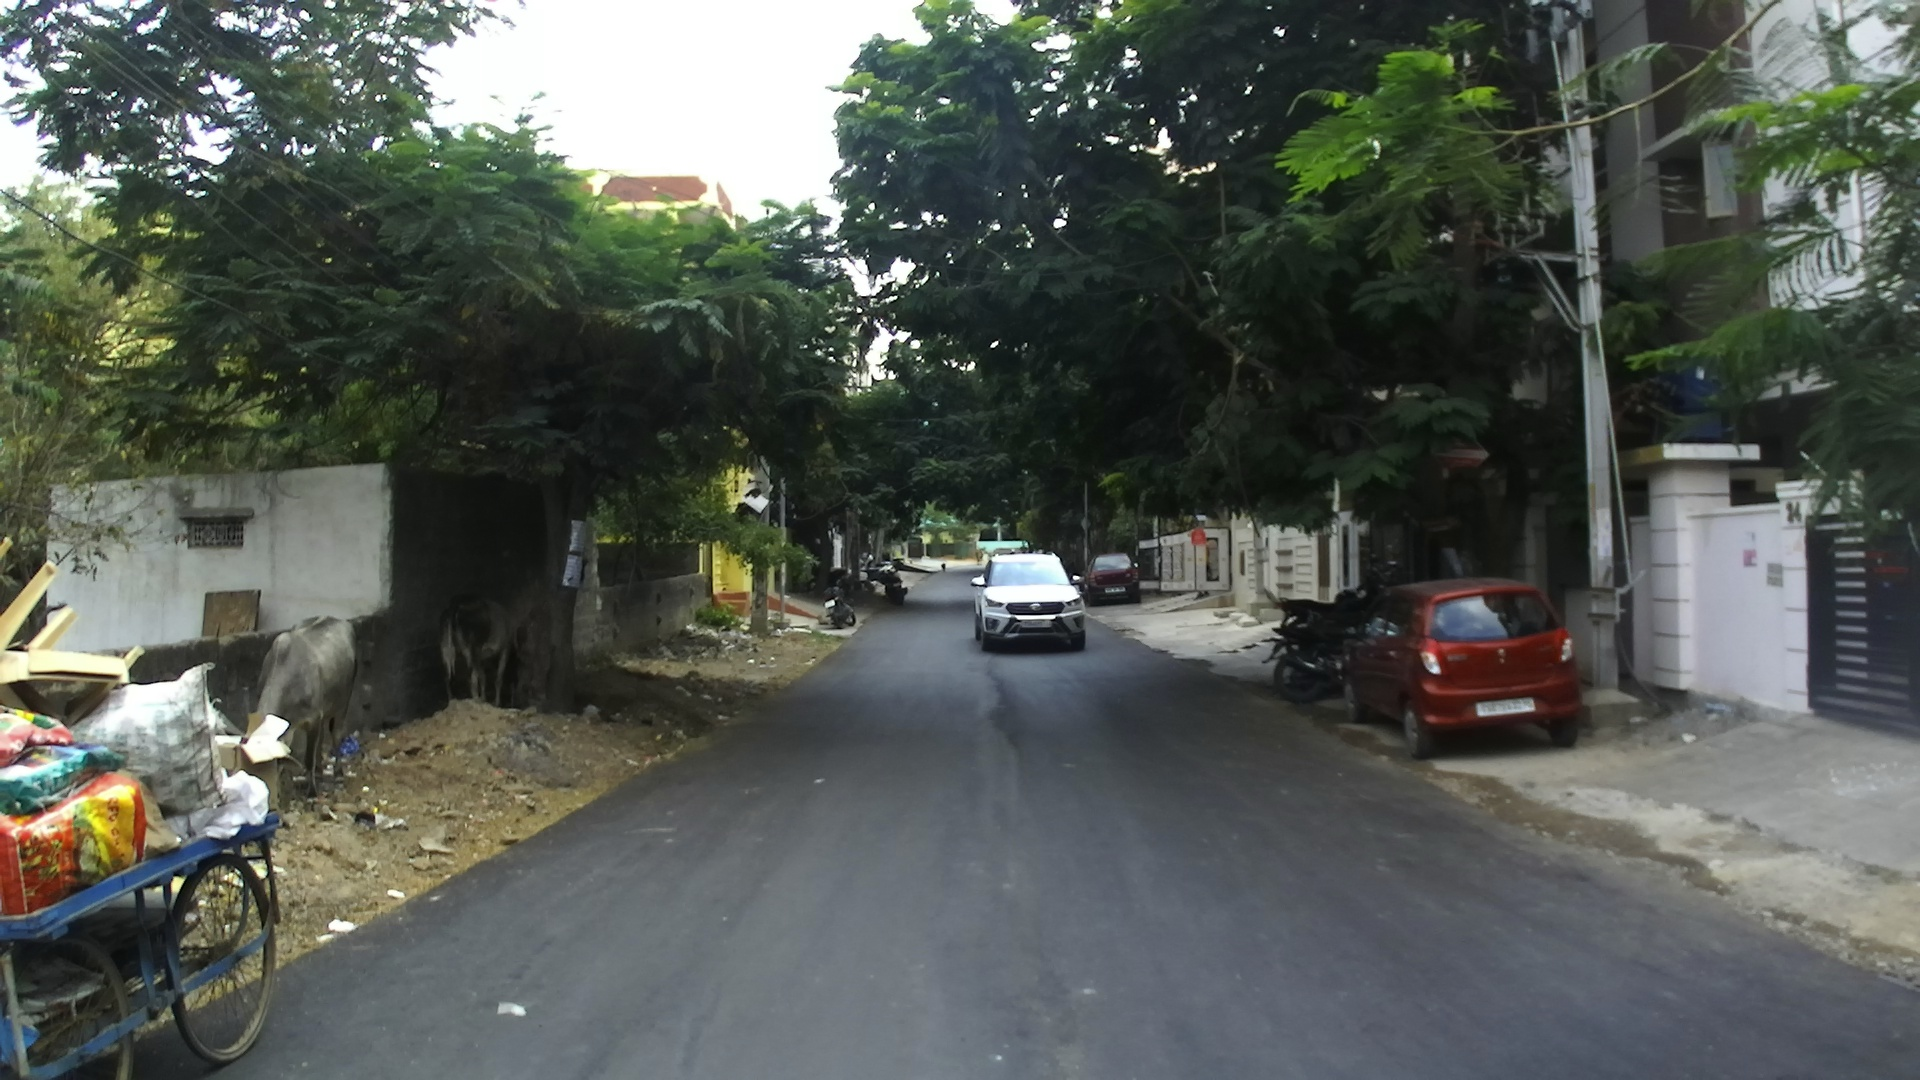vehicle: (1344, 575, 1586, 754), (1269, 585, 1379, 698), (972, 553, 1088, 651), (1084, 553, 1142, 603), (858, 558, 907, 600)
